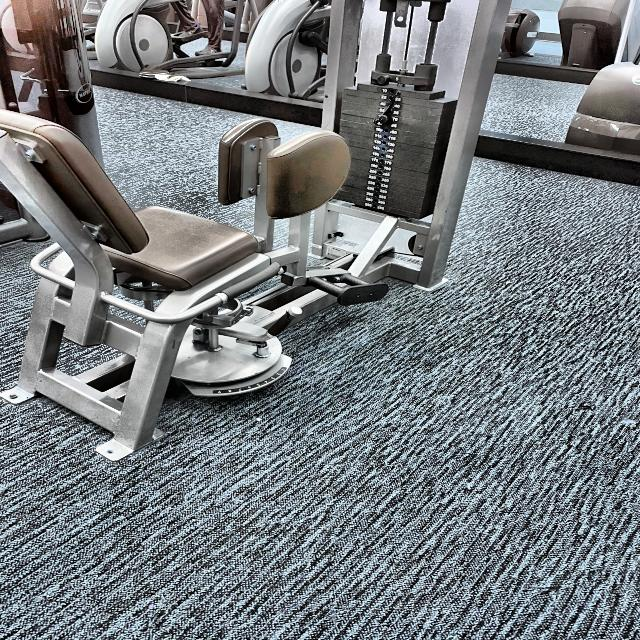hip_adduction_machine: (0, 93, 359, 457), (25, 64, 286, 457)
